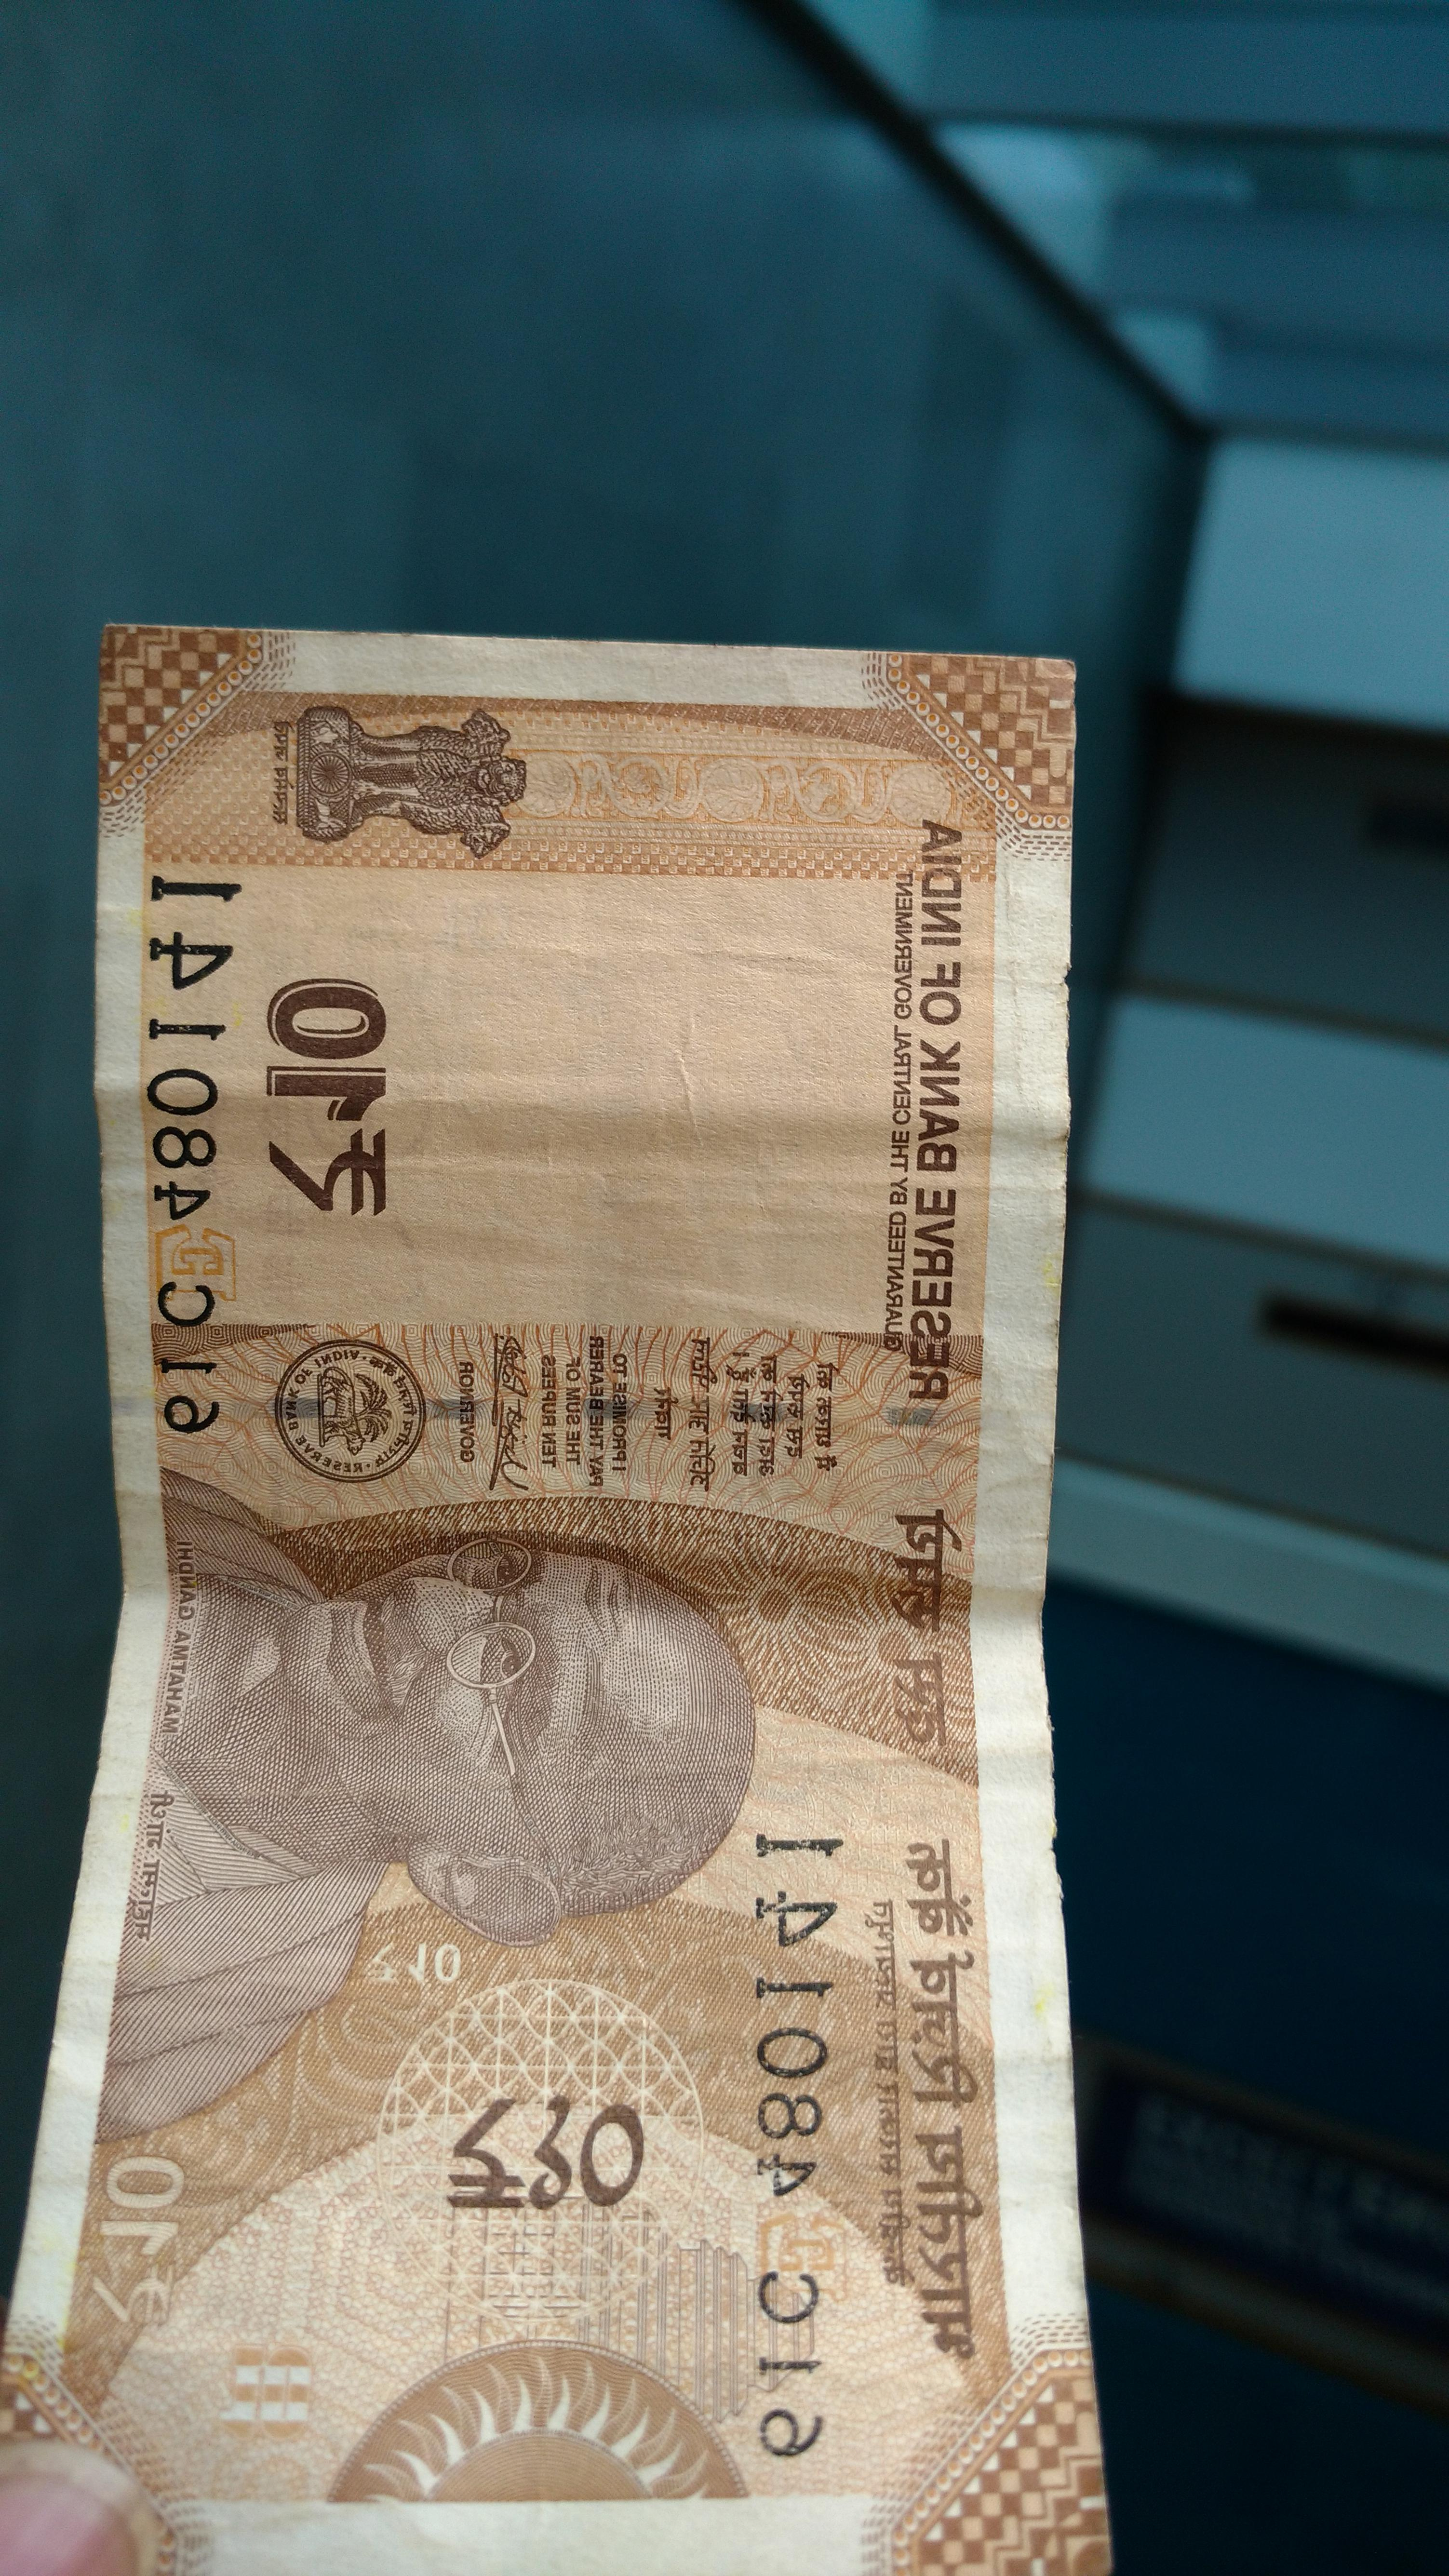Currency: (78, 616, 1054, 2534)
